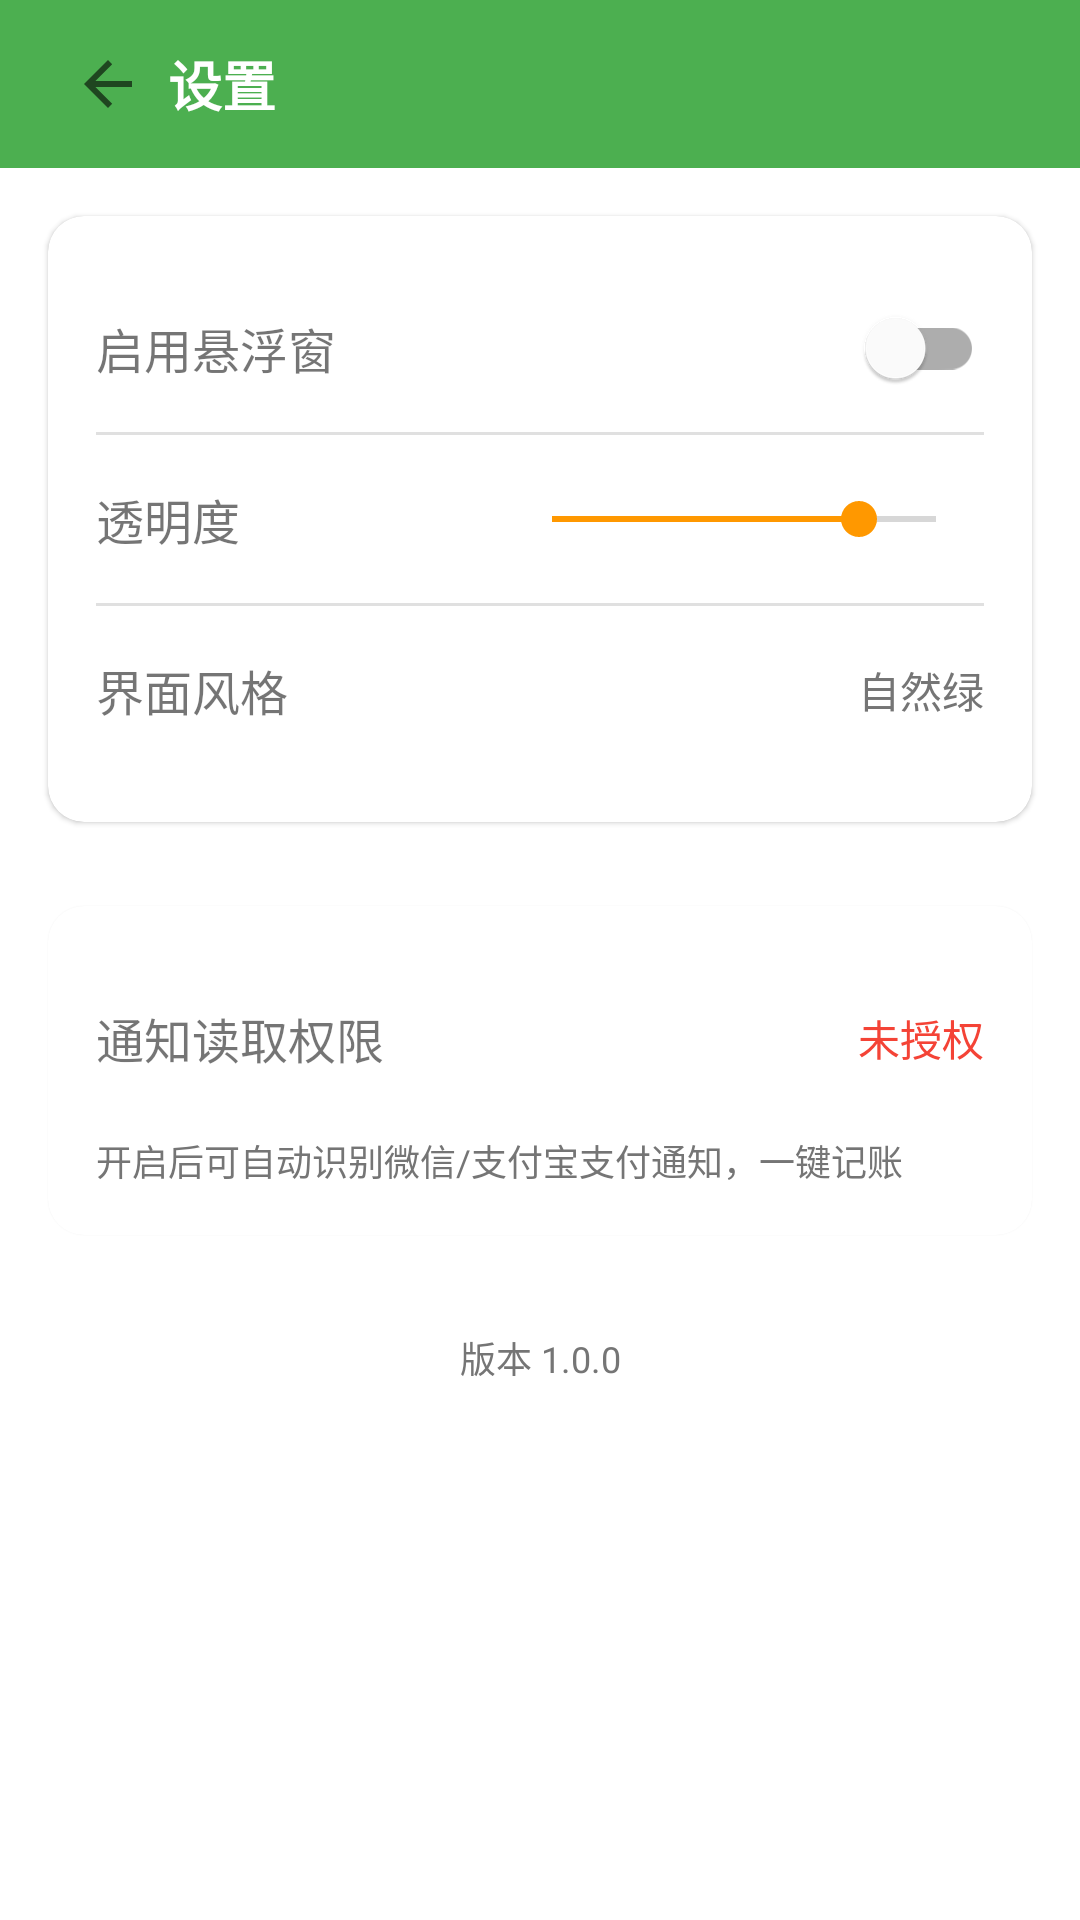

Point at icon controls on the screen. Image size 1080w x 1920h, points as point (x, y).
返回: point (108, 84)
